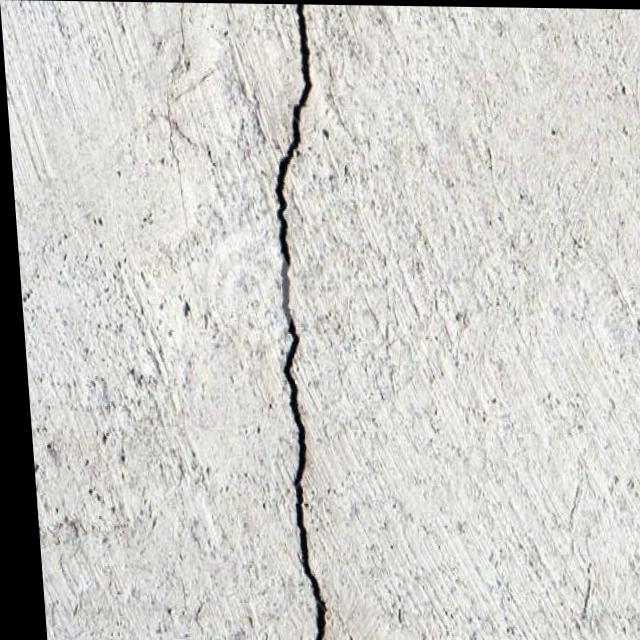Crack: (241, 3, 360, 640)
